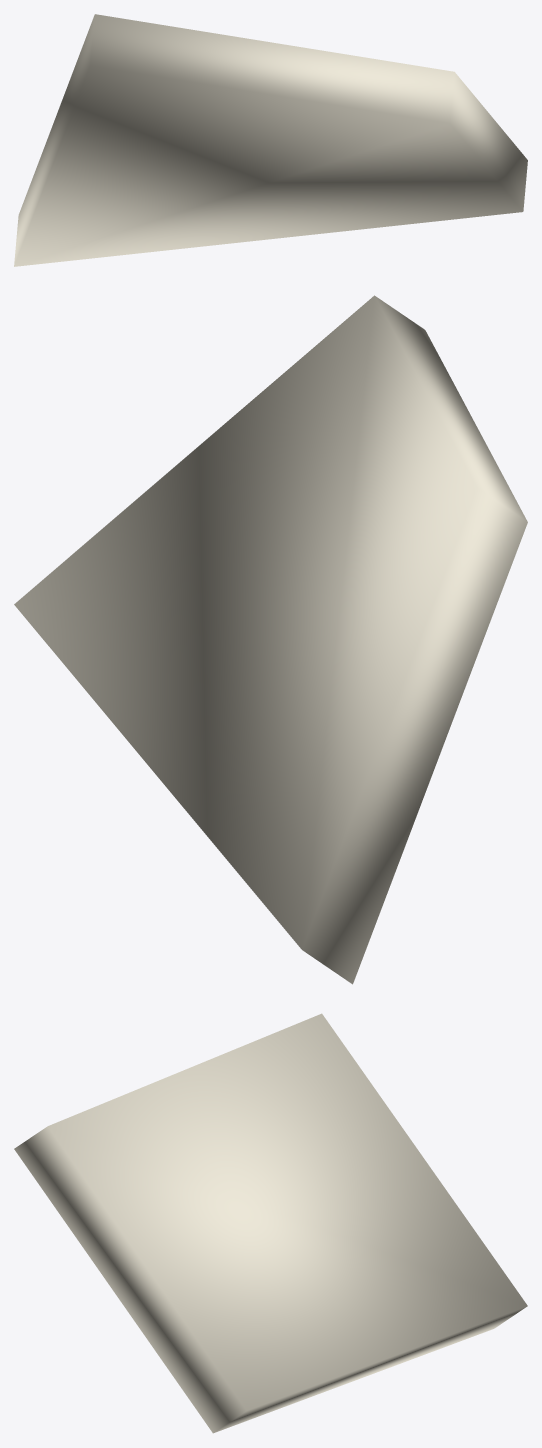
3 views of the same model, one above another, from view 1: azimuth 30°, elevation 25°; view 2: azimuth 150°, elevation 25°; view 3: azimuth 270°, elevation 25° (orthographic). The views are drawn at different scales.
Visible parts, largest first — view 1: ZA_80b0096589be97e6; view 2: ZA_80b0096589be97e6; view 3: ZA_80b0096589be97e6.
Part boxes in pixels (bbox=[...]): ZA_80b0096589be97e6: bbox=[14, 14, 527, 266]; ZA_80b0096589be97e6: bbox=[14, 295, 527, 984]; ZA_80b0096589be97e6: bbox=[14, 1013, 527, 1433].
Bounding box in the file's own units: 0.0127 × 0.00931 × 0.0139.
